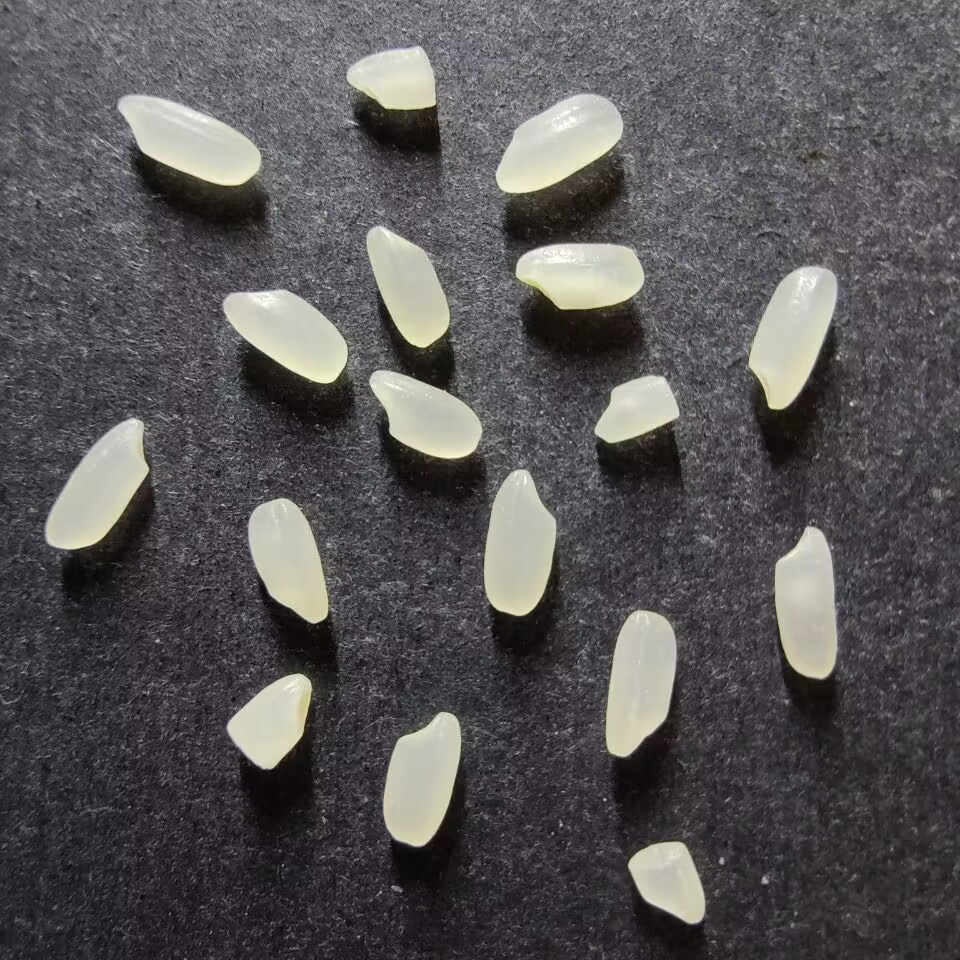broken: (225, 673, 311, 770), (627, 840, 705, 924), (593, 375, 680, 443), (345, 46, 436, 110)
rice: (44, 417, 149, 550), (117, 94, 260, 186), (747, 266, 837, 411), (495, 93, 623, 193), (222, 289, 348, 384), (483, 468, 557, 616), (382, 711, 461, 847), (604, 609, 676, 757), (247, 497, 329, 624), (365, 225, 449, 347), (368, 369, 481, 459), (773, 526, 838, 679), (514, 242, 644, 310)
